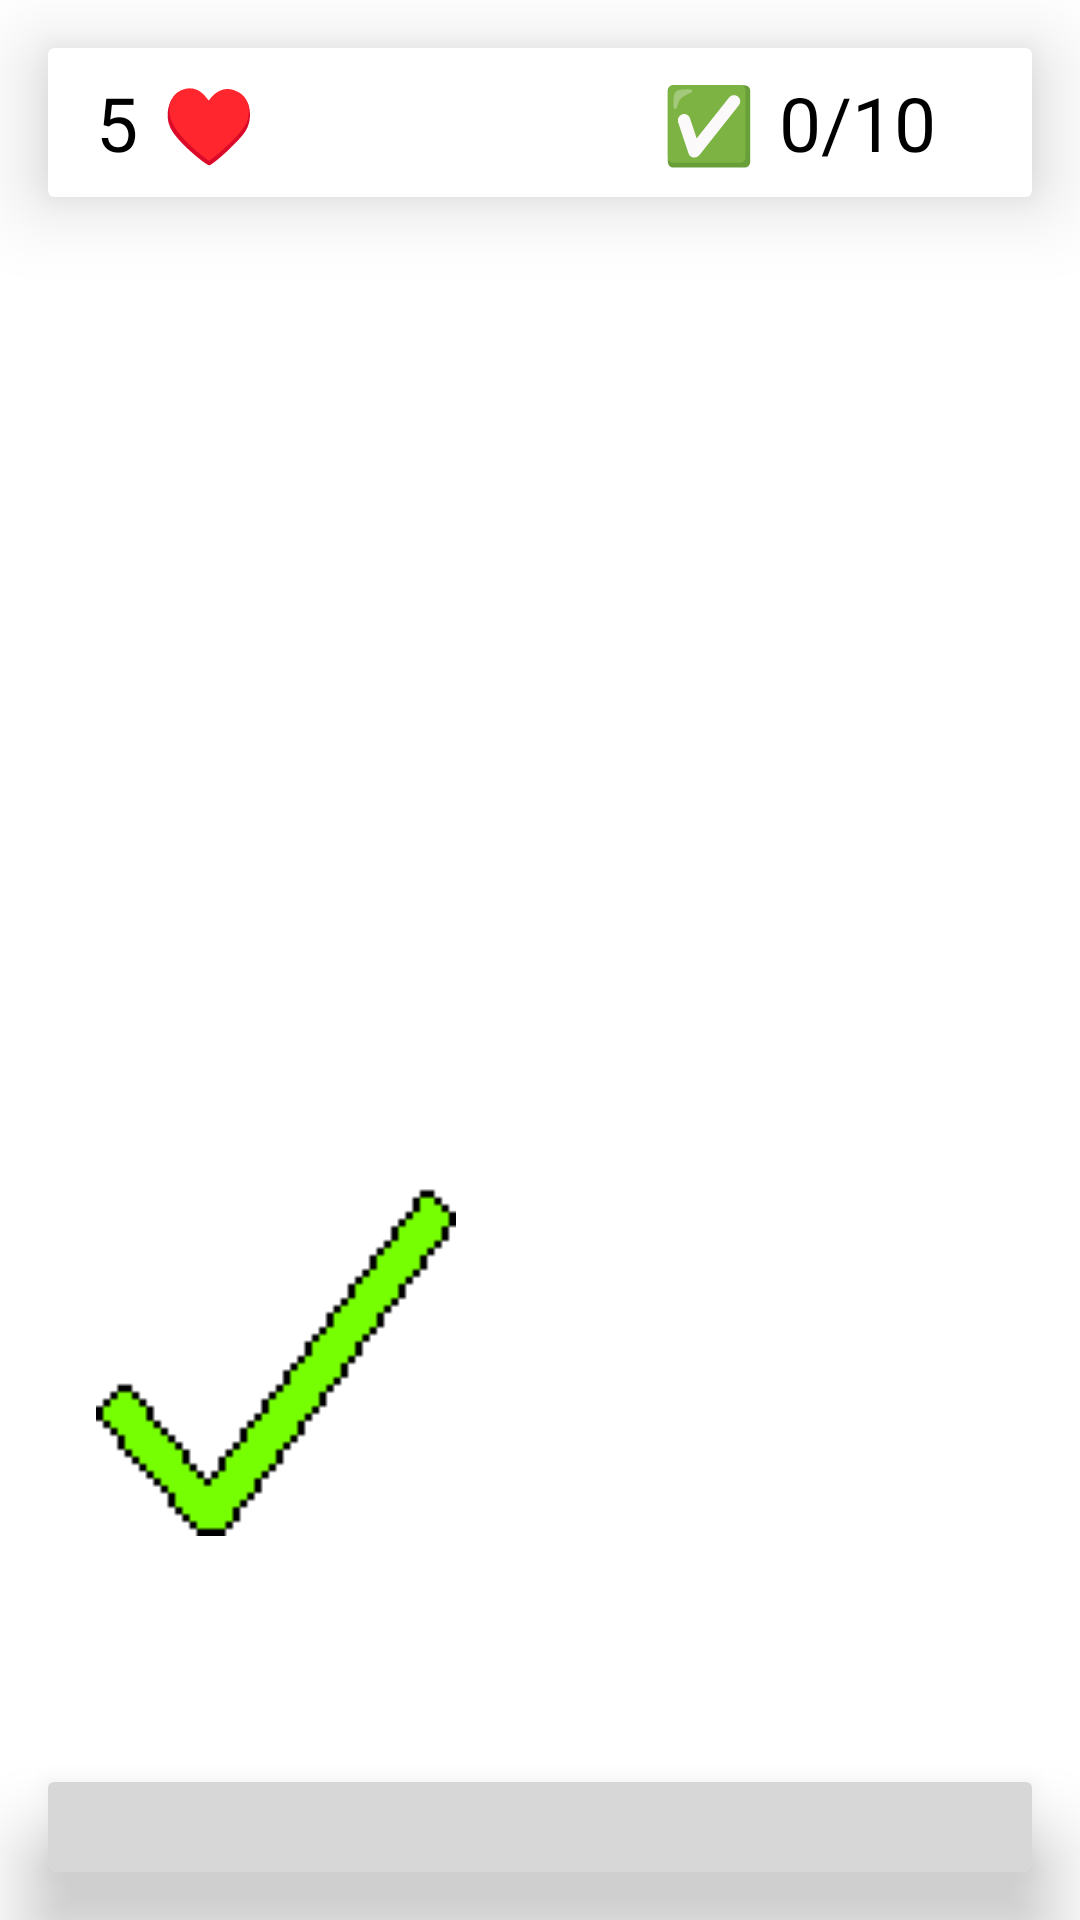

Icons on this 1080px×1920px Android screen, each with its box as (x1, y1, x2, y2):
True: (96, 1189, 456, 1536)
